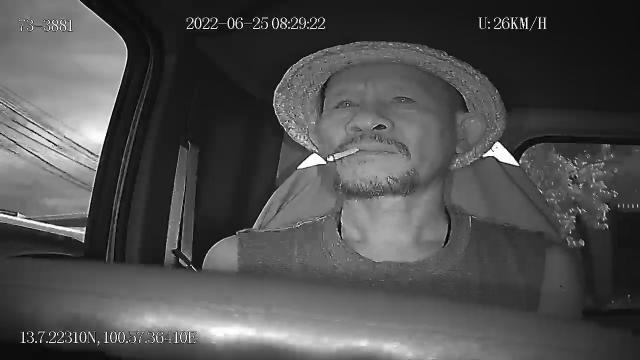SafeDriving: (329, 90, 364, 115), (384, 88, 421, 110)
Smoking: (326, 145, 360, 161)
